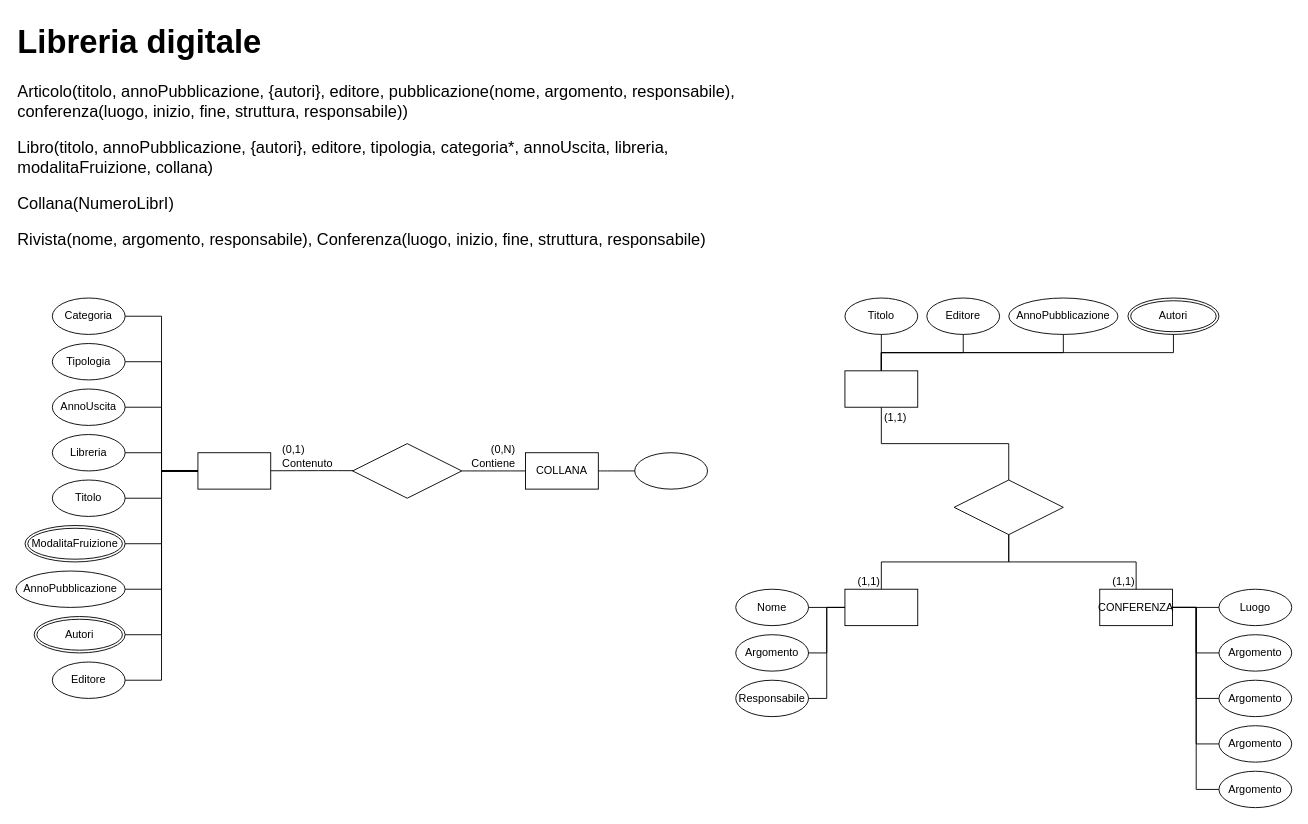
The diagram is 1308 pixels wide and 824 high, and some of its shapes have lost their labels. The centre of each missing label's shape, as x and y in pixels:
"APPARTIENE_A" belongs at point (407, 470).
"ARTICOLO" belongs at point (881, 388).
"LIBRO" belongs at point (234, 470).
"NumeroLibri" belongs at point (671, 470).
"PUBBLICATO_IN" belongs at point (1008, 507).
"RIVISTA" belongs at point (881, 607).
